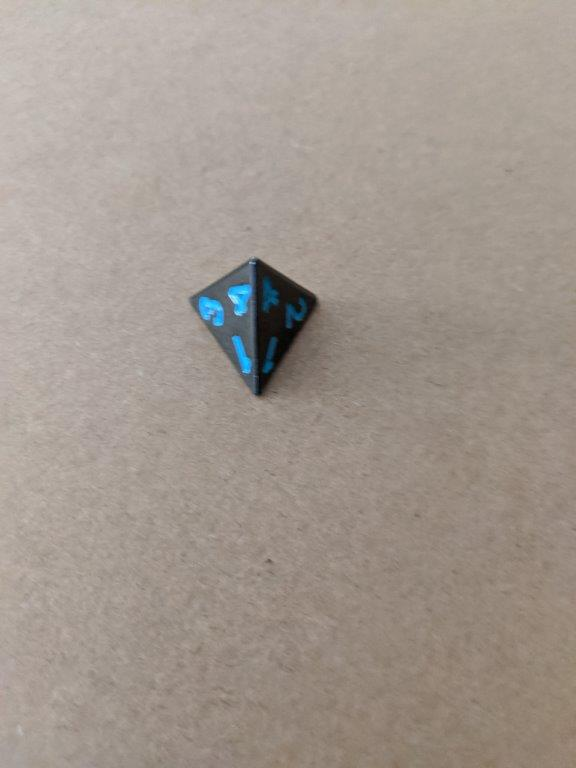d4-4: (182, 256, 319, 400)
